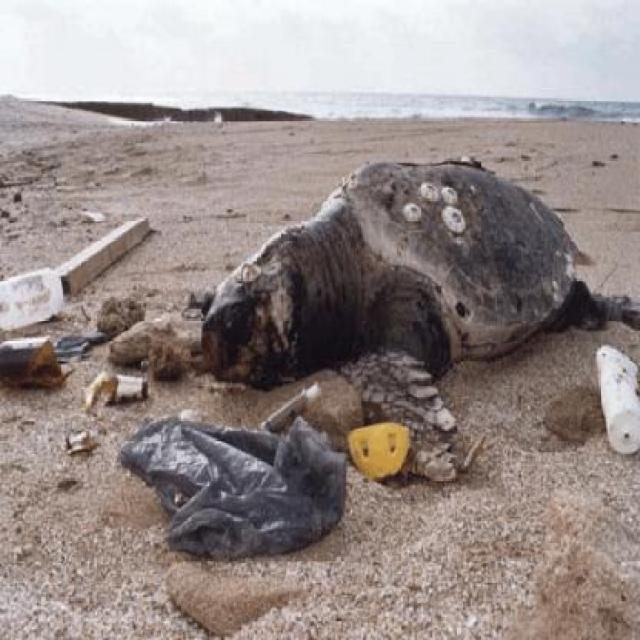garbage: (110, 396, 359, 577)
